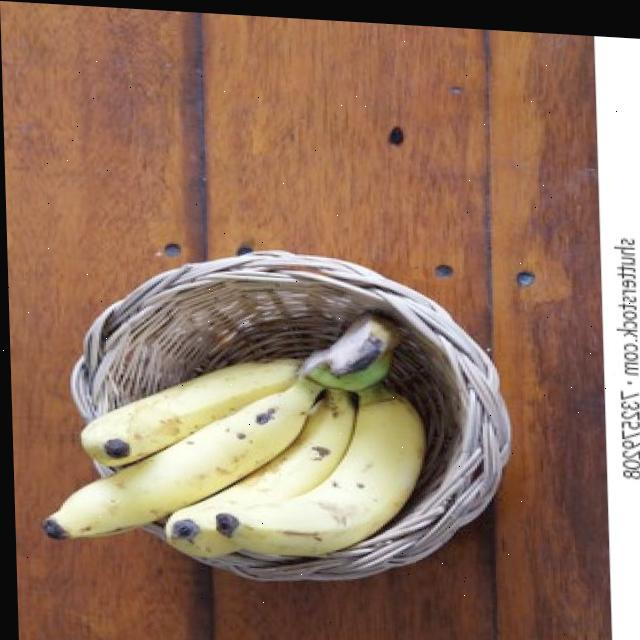banana: (32, 291, 435, 579)
